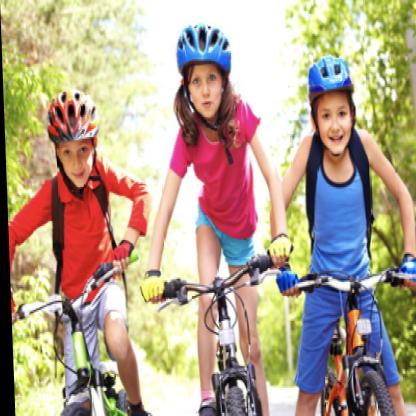With Helmet: (43, 87, 103, 190), (171, 25, 238, 115), (305, 53, 356, 157)
